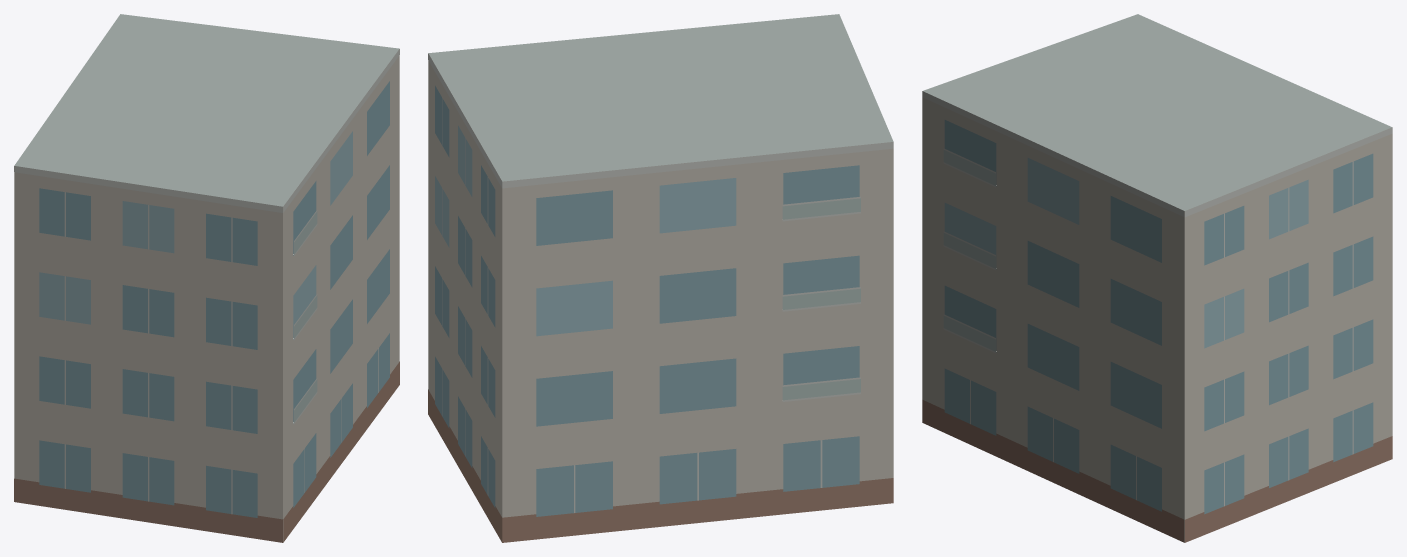
File: survey-upis-32742481.glb
3 views of the same model, side by side, from view 1: azimuth 30°, elevation 25°; view 2: azimuth 150°, elevation 25°; view 3: azimuth 270°, elevation 25° (orthographic). The views are drawn at different scales.
Parts seen in each view (by area): view 1: survey-upis-32742481.tmp; view 2: survey-upis-32742481.tmp; view 3: survey-upis-32742481.tmp.
Boxes of the visible parts, bbox=[...] form: survey-upis-32742481.tmp: bbox=[14, 14, 399, 542]; survey-upis-32742481.tmp: bbox=[428, 14, 893, 542]; survey-upis-32742481.tmp: bbox=[922, 14, 1392, 542].
Size of the model in its own units: 16.45 by 12.9 by 16.57.
